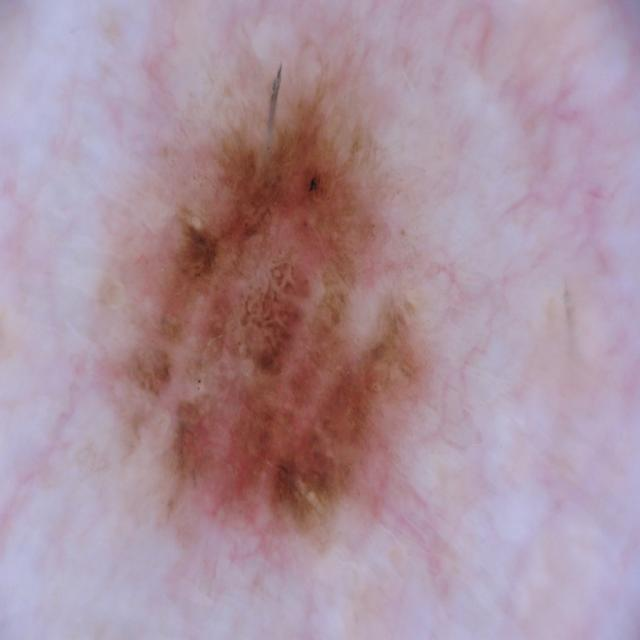Benign: (118, 58, 424, 575)
